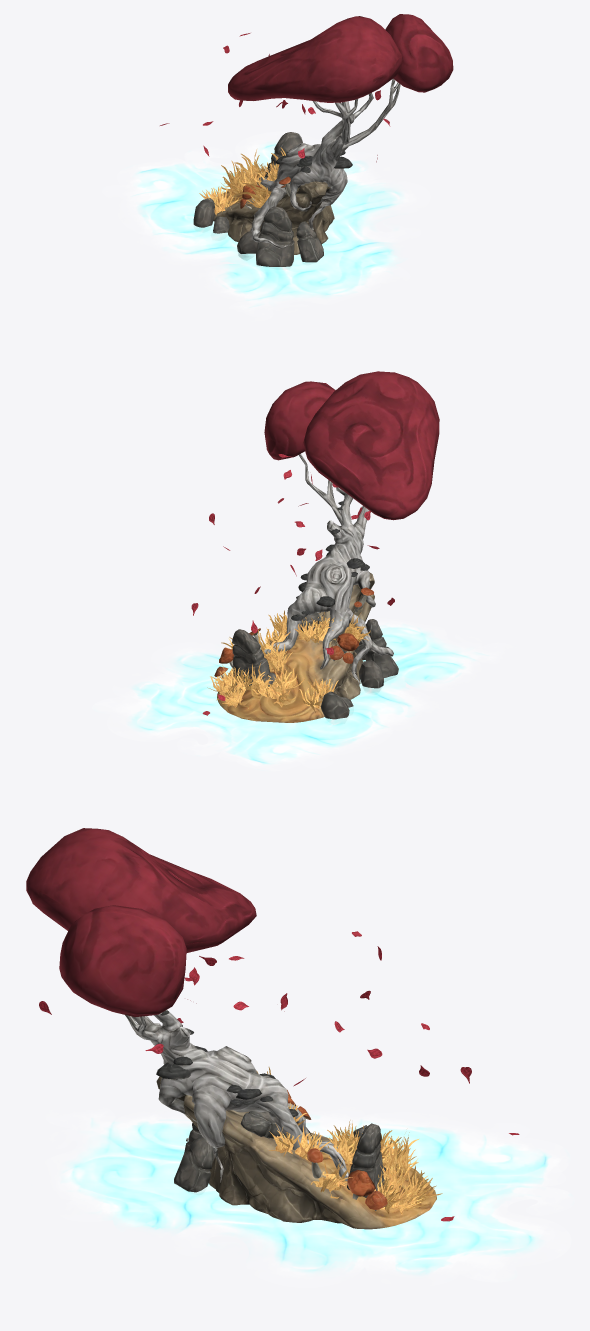
The model's file is pic-transformed.glb.
3 views of the same model, one above another, from view 1: azimuth 30°, elevation 25°; view 2: azimuth 150°, elevation 25°; view 3: azimuth 270°, elevation 25° (orthographic). The views are drawn at different scales.
Visible parts, largest first — view 1: Object_3, Object_7, Object_2, Object_4, Object_6, Object_8; view 2: Object_3, Object_7, Object_2, Object_6, Object_4, Object_8; view 3: Object_3, Object_7, Object_6, Object_2, Object_4, Object_8.
Part boxes in pixels (box(x1,y1,x2,y2)): Object_3: box(106, 132, 418, 317); Object_7: box(228, 14, 453, 102); Object_2: box(250, 78, 400, 248); Object_4: box(193, 132, 352, 266); Object_6: box(213, 181, 334, 254); Object_8: box(160, 33, 390, 215); Object_3: box(92, 618, 500, 770); Object_7: box(264, 371, 439, 520); Object_2: box(264, 454, 393, 684); Object_6: box(217, 572, 374, 722); Object_4: box(214, 501, 398, 719); Object_8: box(191, 454, 394, 715); Object_3: box(50, 1111, 572, 1281); Object_7: box(26, 828, 256, 1017); Object_6: box(156, 1076, 436, 1229); Object_2: box(125, 1010, 349, 1182); Object_4: box(156, 1010, 387, 1210); Object_8: box(39, 931, 519, 1221).
Size of the model in its own units: 654 by 468 by 654.
6 materials, 6 textured.
